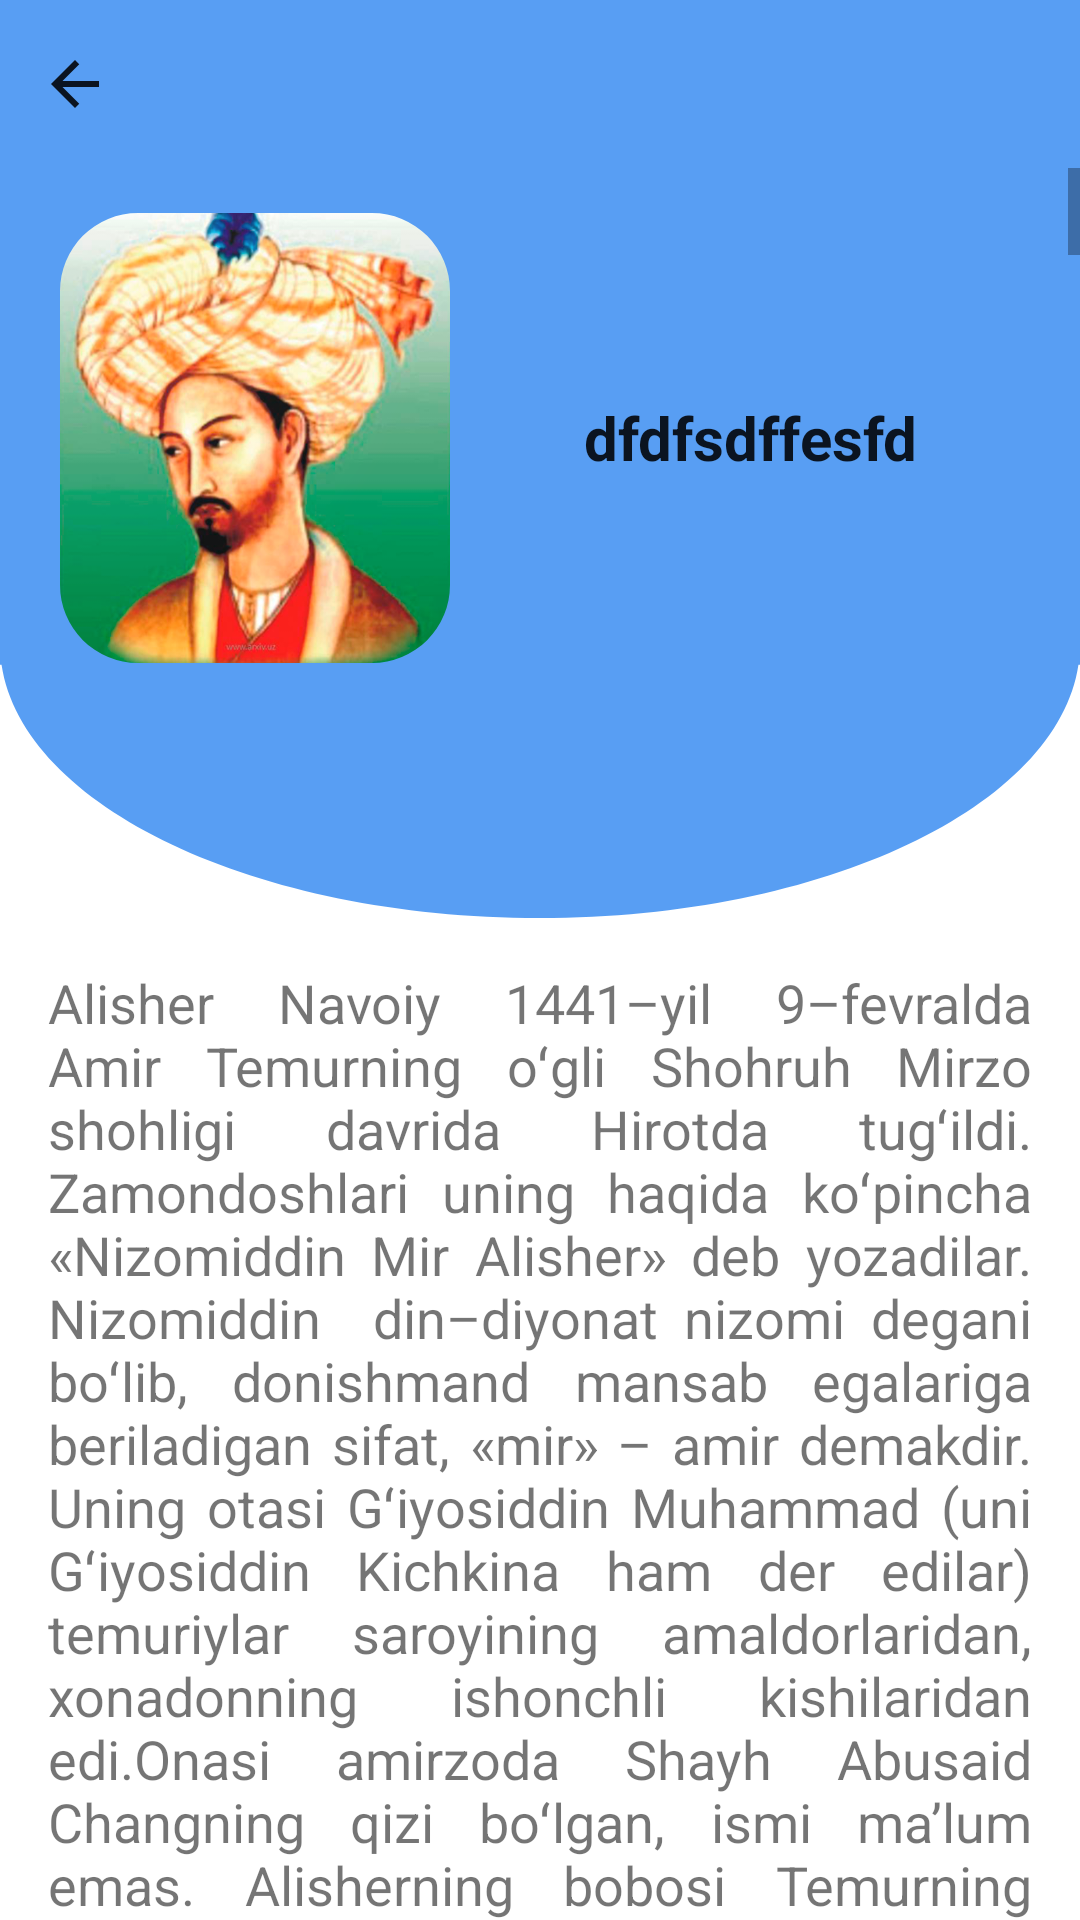

Named icons in this screenshot (1080w x 1920h) and their centers, point (x, y):
arrow back: point (75, 84)
